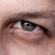eye: (22, 22, 35, 31)
